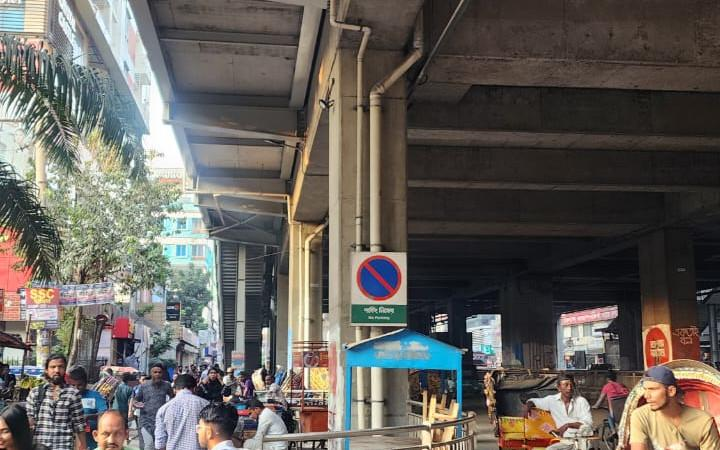No Parking: (349, 251, 408, 324)
